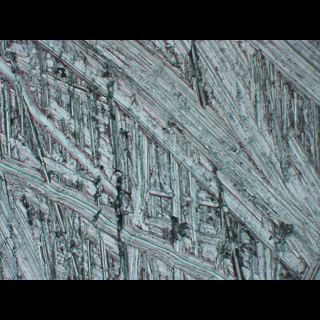d: (2, 40, 319, 277)
